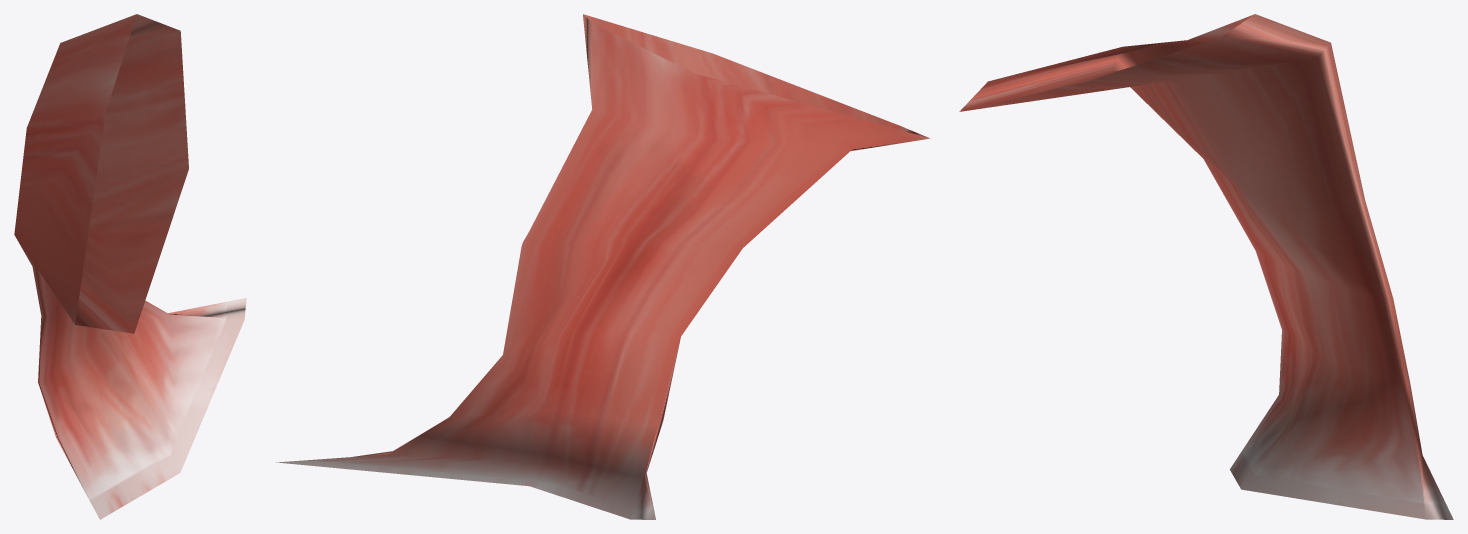
The model's file is Platysma_Muscle_Left.obj.
3 views of the same model, side by side, from view 1: azimuth 30°, elevation 25°; view 2: azimuth 150°, elevation 25°; view 3: azimuth 270°, elevation 25° (orthographic). The views are drawn at different scales.
Parts seen in each view (by area): view 1: Sternothyroideus_Muscle_Right:Sternothyroideus_Muscle_Right_Mesh; view 2: Sternothyroideus_Muscle_Right:Sternothyroideus_Muscle_Right_Mesh; view 3: Sternothyroideus_Muscle_Right:Sternothyroideus_Muscle_Right_Mesh.
Boxes of the visible parts, x1,y1,x2,y2 form: Sternothyroideus_Muscle_Right:Sternothyroideus_Muscle_Right_Mesh: (14, 14, 246, 519); Sternothyroideus_Muscle_Right:Sternothyroideus_Muscle_Right_Mesh: (276, 14, 930, 519); Sternothyroideus_Muscle_Right:Sternothyroideus_Muscle_Right_Mesh: (959, 14, 1453, 519).
Size of the model in its own units: 1.16 by 1.31 by 1.23.
